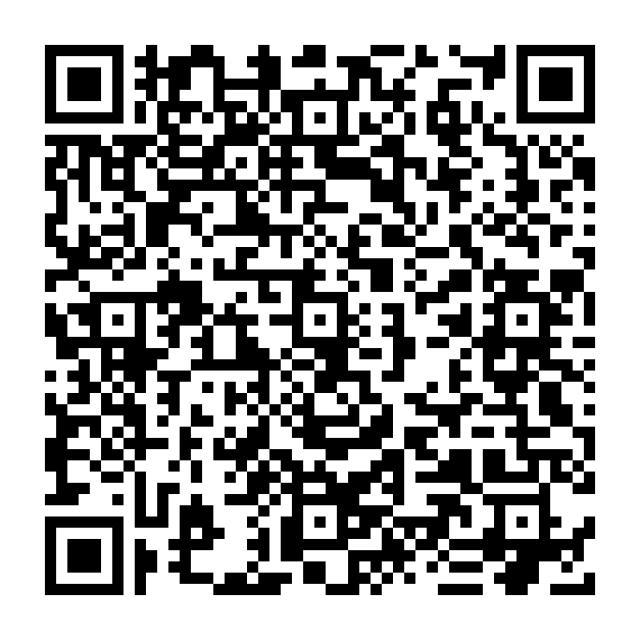QRCode: (1, 1, 632, 634)
